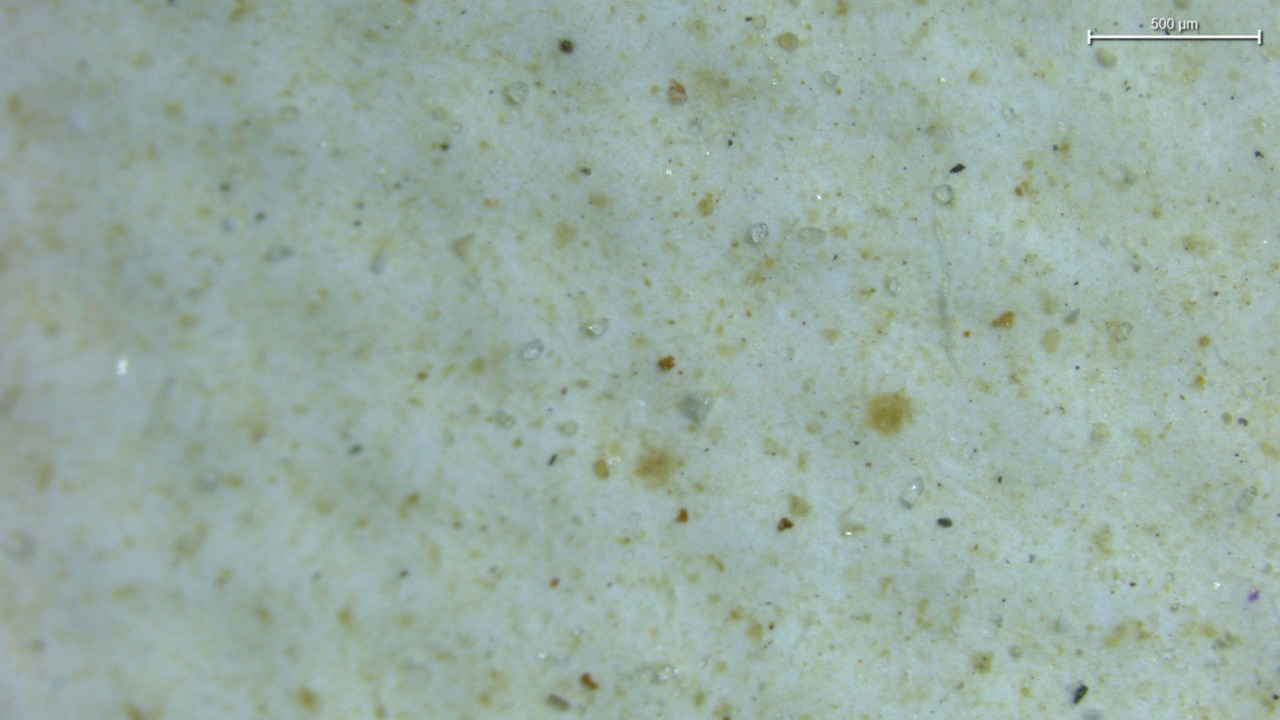microplastic_fragment: (678, 392, 713, 427), (899, 478, 924, 508), (582, 319, 608, 337), (932, 184, 954, 205), (750, 222, 769, 244)
